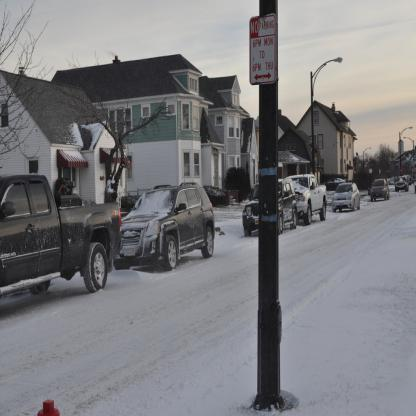Car: (113, 180, 215, 270), (242, 176, 297, 236), (332, 182, 361, 211), (370, 177, 390, 203), (395, 176, 410, 192)
